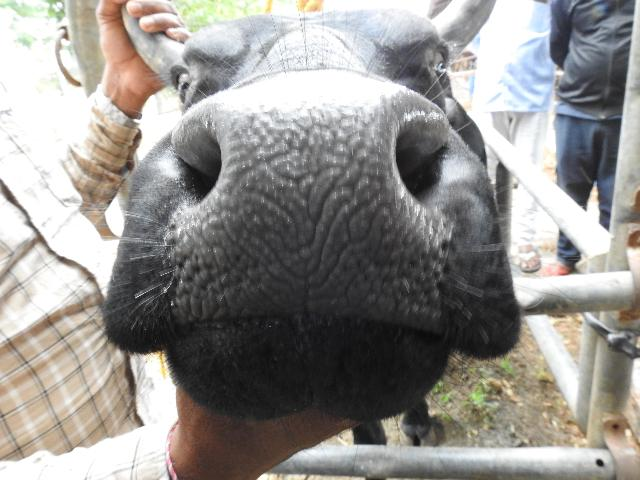Muzzle: (225, 106, 392, 316)
